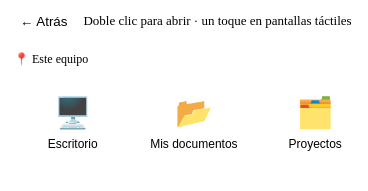
FileExplorer › opens a folder with one touch
Click the button with aria-label "Carpeta Escritorio". click: coordinates (73, 130)
box: [16,86,129,174]
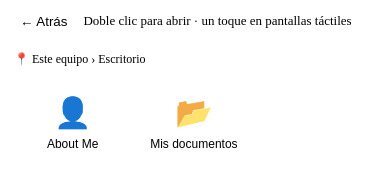
Expected: the text named "Ruta actual" shows "Este equipo › Escritorio", [32,52,146,66]
